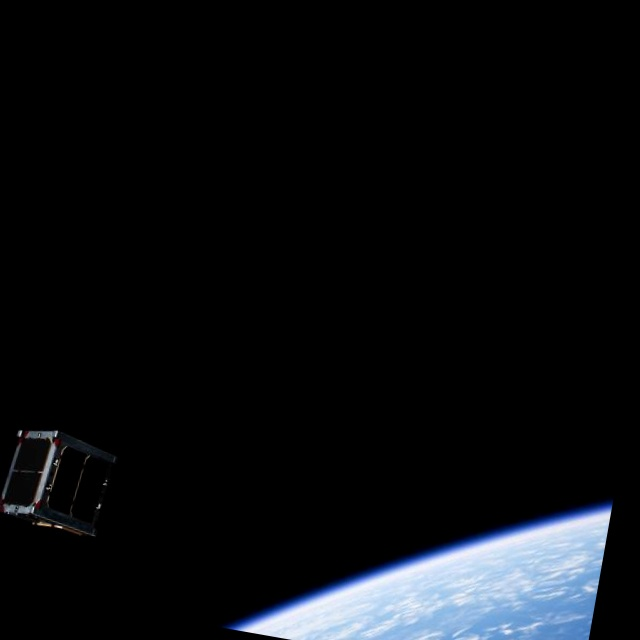medium_debris: (0, 421, 127, 551)
